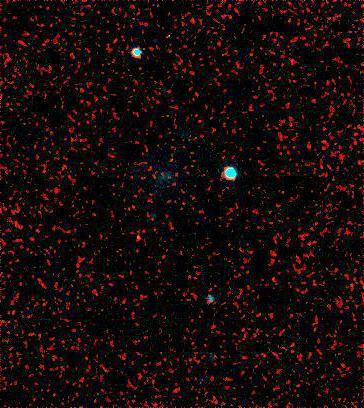star: (122, 220, 152, 250)
